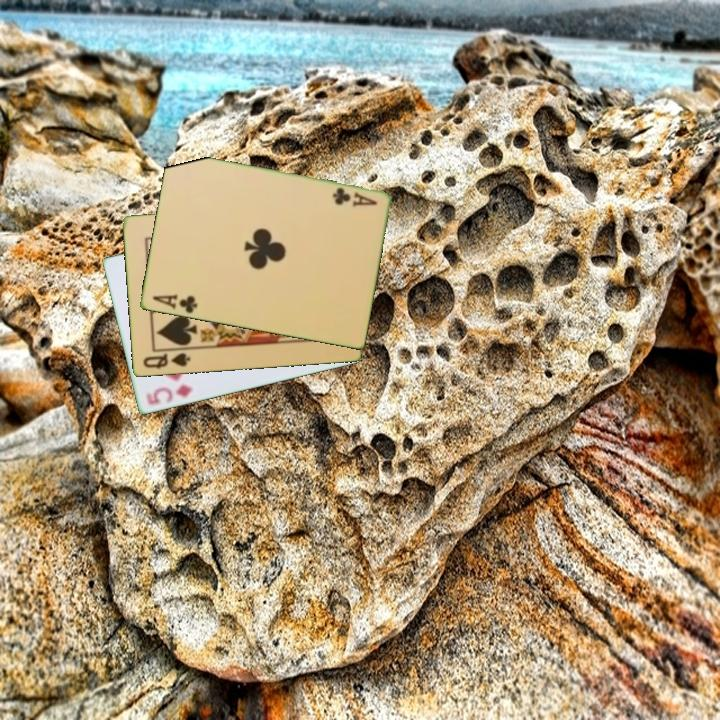5d: (142, 381, 195, 407)
Ac: (149, 290, 200, 316), (329, 184, 380, 210)
Qs: (139, 350, 193, 372)
